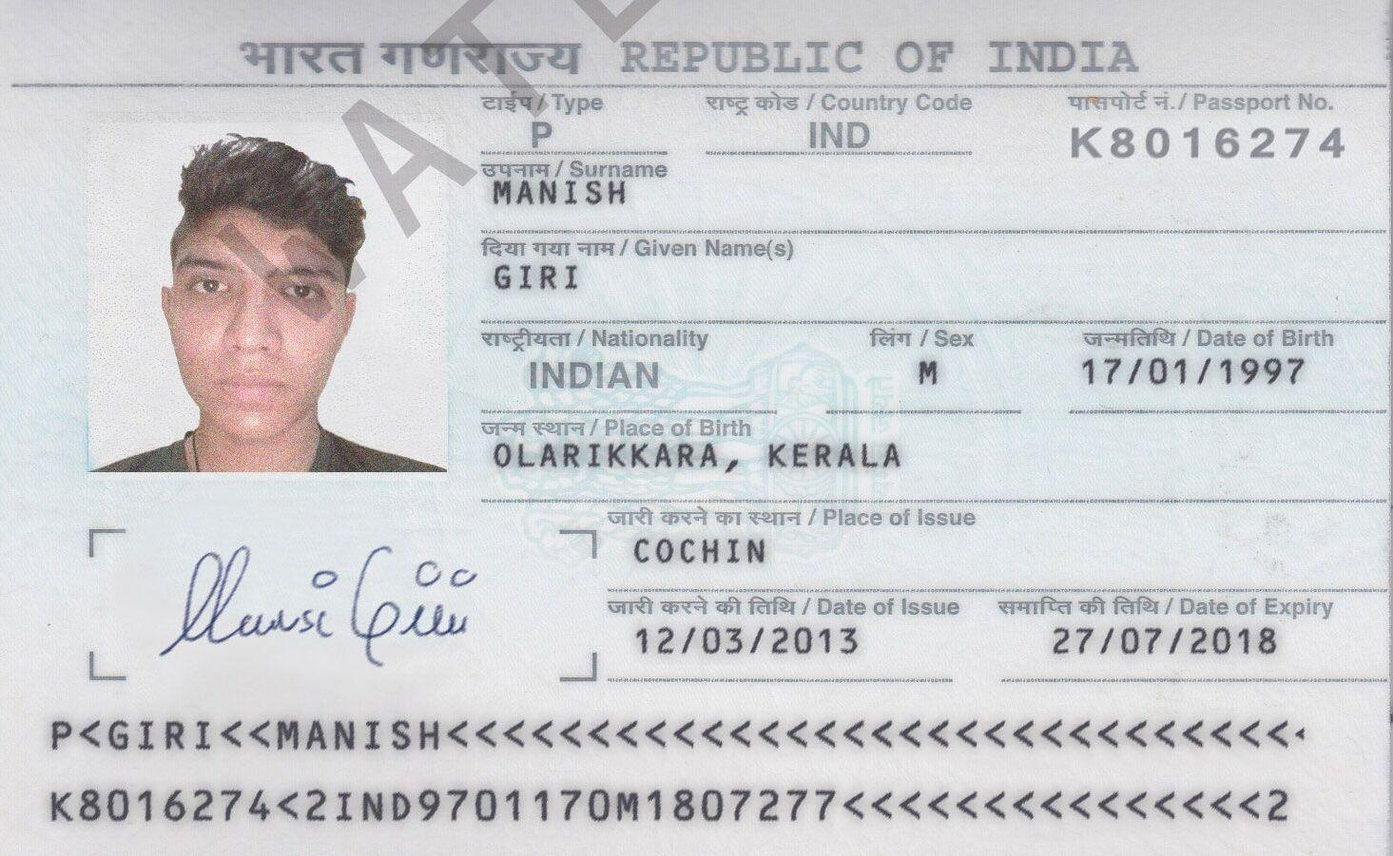DOB: (1062, 346, 1341, 404)
Surname: (456, 173, 713, 226)
country_code: (783, 111, 887, 169)
date_of_expiry: (1017, 611, 1326, 670)
date_of_issue: (583, 614, 874, 677)
details: (48, 683, 1343, 844)
name: (448, 244, 931, 303)
nationality: (490, 349, 807, 408)
passport_no: (1054, 107, 1369, 193)
photo: (40, 115, 433, 477)
place_of_birth: (475, 429, 1103, 489)
place_of_issue: (585, 530, 878, 588)
sex: (875, 351, 978, 407)
sign: (81, 516, 522, 686)
type: (483, 108, 601, 159)
